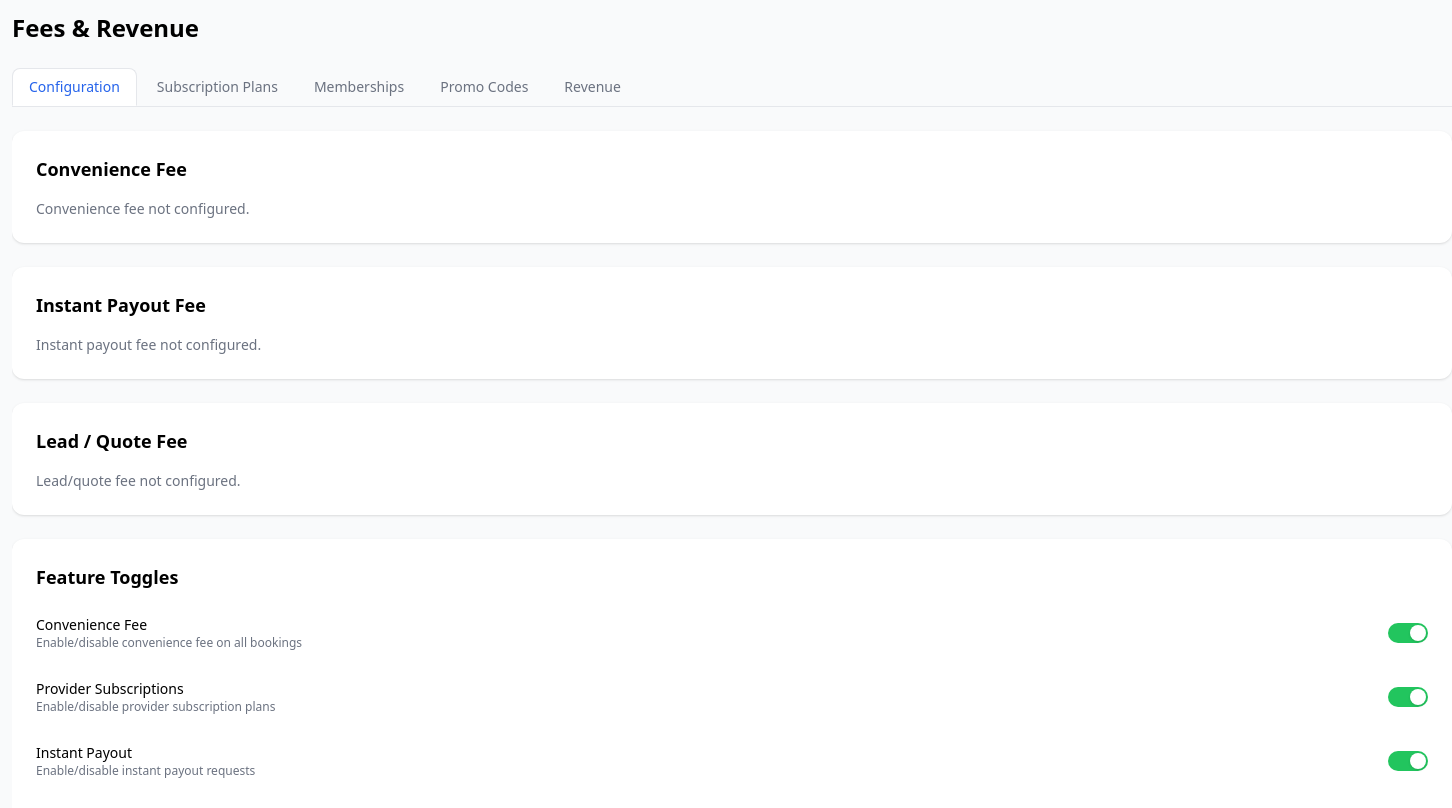
Scenario: Fees Page › switches to revenue tab
Click the button "Revenue".
click(593, 87)  # box [548,68,637,106]
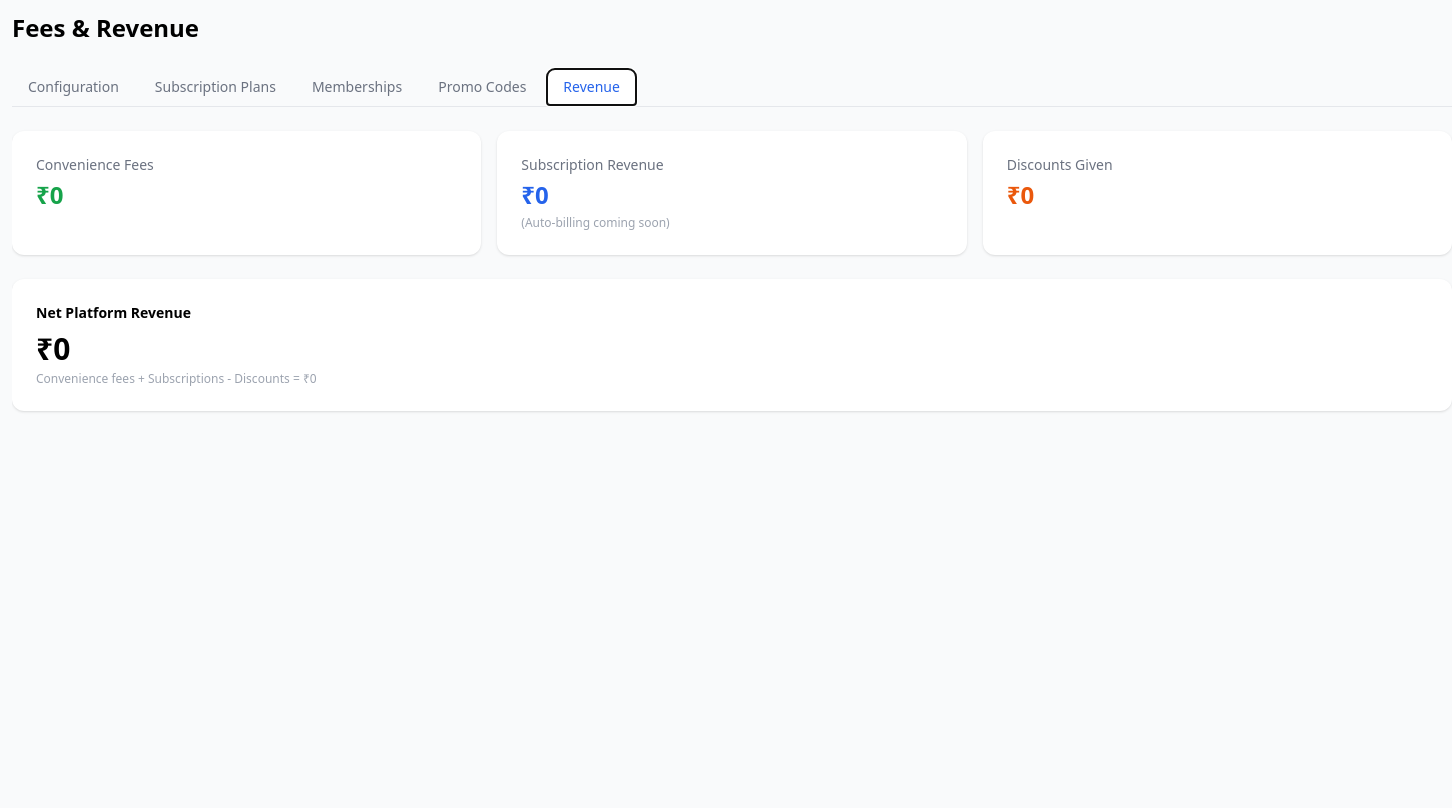
Expected: the text "Convenience Fees" is shown, [36,155,154,174]
Expected: the text "Subscription Revenue" is shown, [521,155,664,174]
Expected: the text "Discounts Given" is shown, [1007,155,1113,174]
